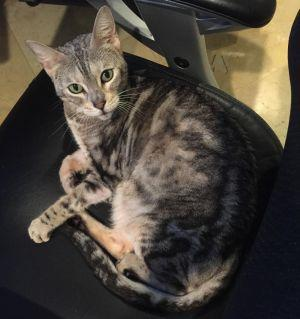bengal: (22, 4, 139, 123)
